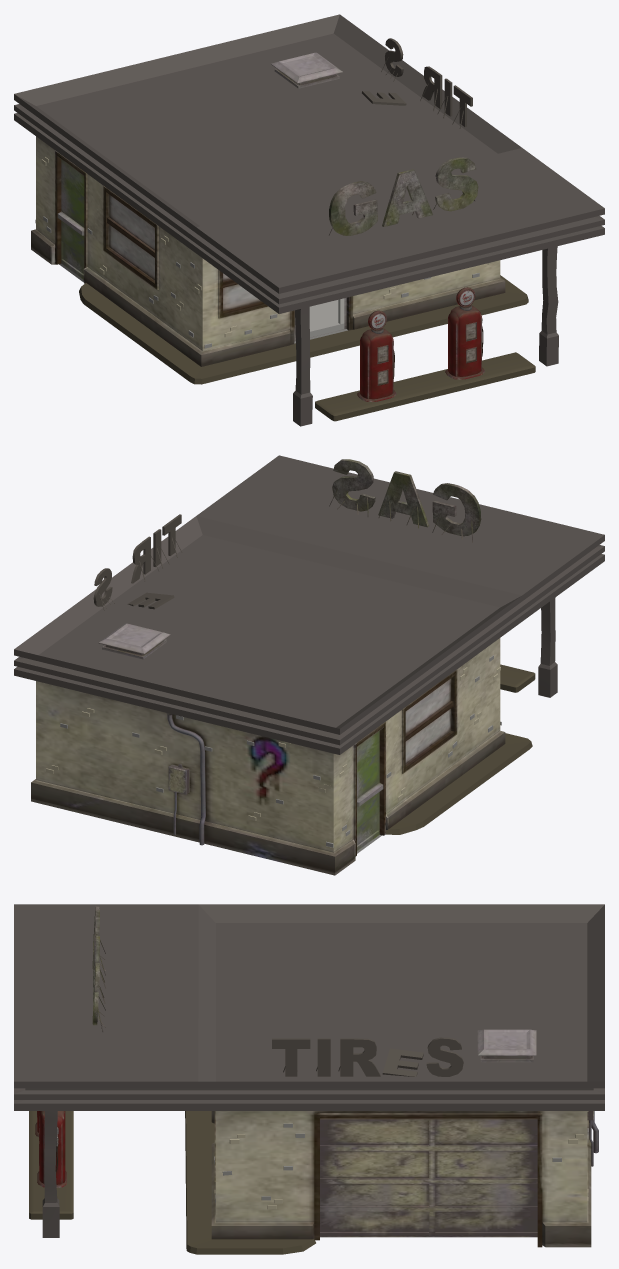
File: roadside-gas.zfix-v3.lod0.glb
3 views of the same model, one above another, from view 1: azimuth 30°, elevation 25°; view 2: azimuth 150°, elevation 25°; view 3: azimuth 270°, elevation 25° (orthographic). The views are drawn at different scales.
Visible parts, largest first — view 1: Brick_A:Brick_Single_Geo_Single_Brick_0, Gas_Station_Model:Gas_Station_Body_main_shader_0, GAS_Sign:Supports_GAS_SIgn_0, Gas_Pump:Body_Geo_Pump_Main_Shader_0, Gas_Station_Model:polySurface3_Building_Extra_Shader_0, Gas_Pump:Pump_Top_Sign_Geo_pump_misc_shader_0; view 2: Brick_A:Brick_Single_Geo_Single_Brick_0, Gas_Station_Model:Gas_Station_Body_main_shader_0, Gas_Station_Model:polySurface3_Building_Extra_Shader_0, GAS_Sign:Supports_GAS_SIgn_0; view 3: Brick_A:Brick_Single_Geo_Single_Brick_0, Gas_Station_Model:polySurface3_Building_Extra_Shader_0, Gas_Station_Model:Gas_Station_Body_main_shader_0, Gas_Pump:Body_Geo_Pump_Main_Shader_0, GAS_Sign:Supports_GAS_SIgn_0.
Boxes of the visible parts, box(x1,y1,x2,y2) form: Brick_A:Brick_Single_Geo_Single_Brick_0: box(14, 14, 604, 426); Gas_Station_Model:Gas_Station_Body_main_shader_0: box(31, 136, 505, 366); GAS_Sign:Supports_GAS_SIgn_0: box(329, 157, 478, 235); Gas_Pump:Body_Geo_Pump_Main_Shader_0: box(357, 305, 484, 402); Gas_Station_Model:polySurface3_Building_Extra_Shader_0: box(57, 52, 346, 341); Gas_Pump:Pump_Top_Sign_Geo_pump_misc_shader_0: box(368, 287, 483, 378); Brick_A:Brick_Single_Geo_Single_Brick_0: box(14, 455, 604, 853); Gas_Station_Model:Gas_Station_Body_main_shader_0: box(31, 638, 505, 875); Gas_Station_Model:polySurface3_Building_Extra_Shader_0: box(98, 623, 383, 850); GAS_Sign:Supports_GAS_SIgn_0: box(329, 459, 481, 542); Brick_A:Brick_Single_Geo_Single_Brick_0: box(14, 904, 604, 1254); Gas_Station_Model:polySurface3_Building_Extra_Shader_0: box(320, 1029, 598, 1237); Gas_Station_Model:Gas_Station_Body_main_shader_0: box(211, 1111, 591, 1247); Gas_Pump:Body_Geo_Pump_Main_Shader_0: box(35, 1111, 66, 1187); GAS_Sign:Supports_GAS_SIgn_0: box(92, 906, 105, 1032).
Size of the model in its own units: 12.84 by 7.47 by 17.41.
Materials: 6 (5 with a texture image).
